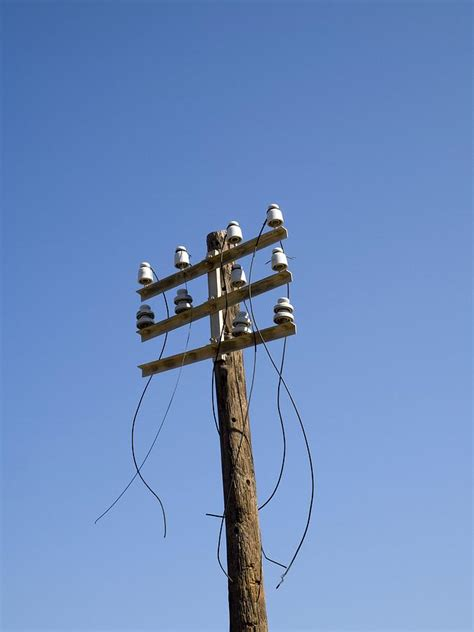pole: (100, 188, 363, 632)
